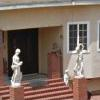Statue: (8, 43, 32, 96)
